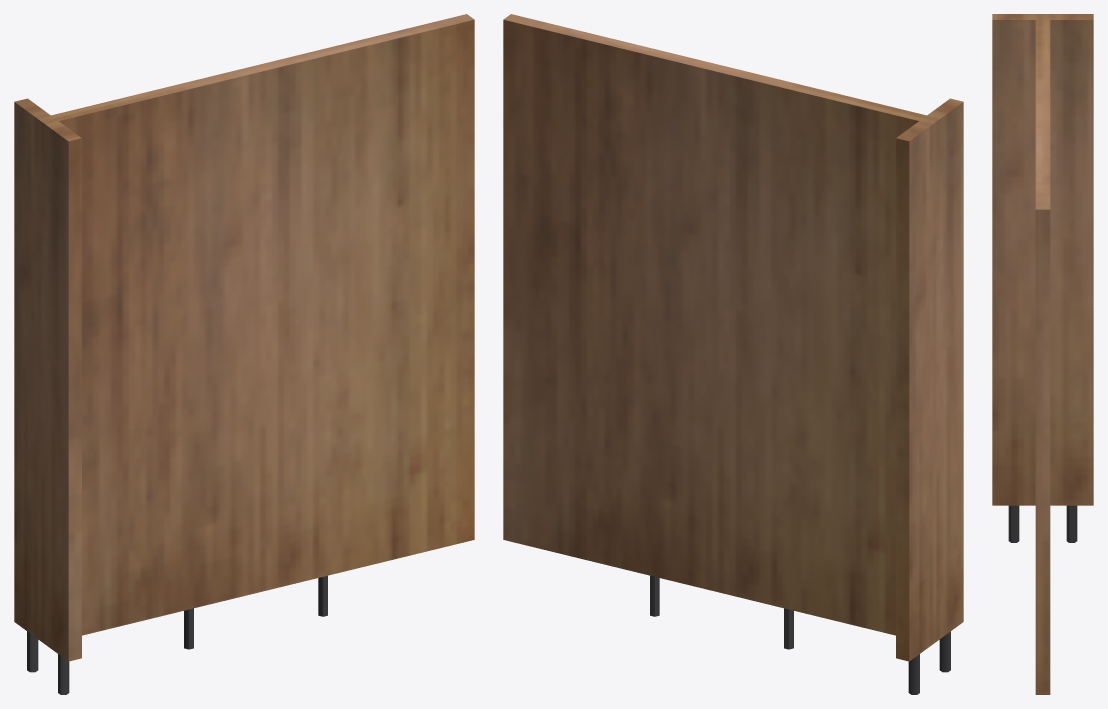
File: cloison.fbx
The picture shows the model from 3 angles, left to right: view 1: azimuth 30°, elevation 25°; view 2: azimuth 150°, elevation 25°; view 3: azimuth 270°, elevation 25°; orthographic projection. The views are drawn at different scales.
Parts seen in each view (by area): view 1: SM_ToiletCabin02_WC_0; view 2: SM_ToiletCabin02_WC_0; view 3: SM_ToiletCabin02_WC_0.
Boxes of the visible parts, <box> form: SM_ToiletCabin02_WC_0: <box>14,14,474,694</box>; SM_ToiletCabin02_WC_0: <box>503,14,963,694</box>; SM_ToiletCabin02_WC_0: <box>992,14,1093,694</box>.
Bounding box in the file's own units: 579 × 724 × 127.
1 material, 1 textured.
